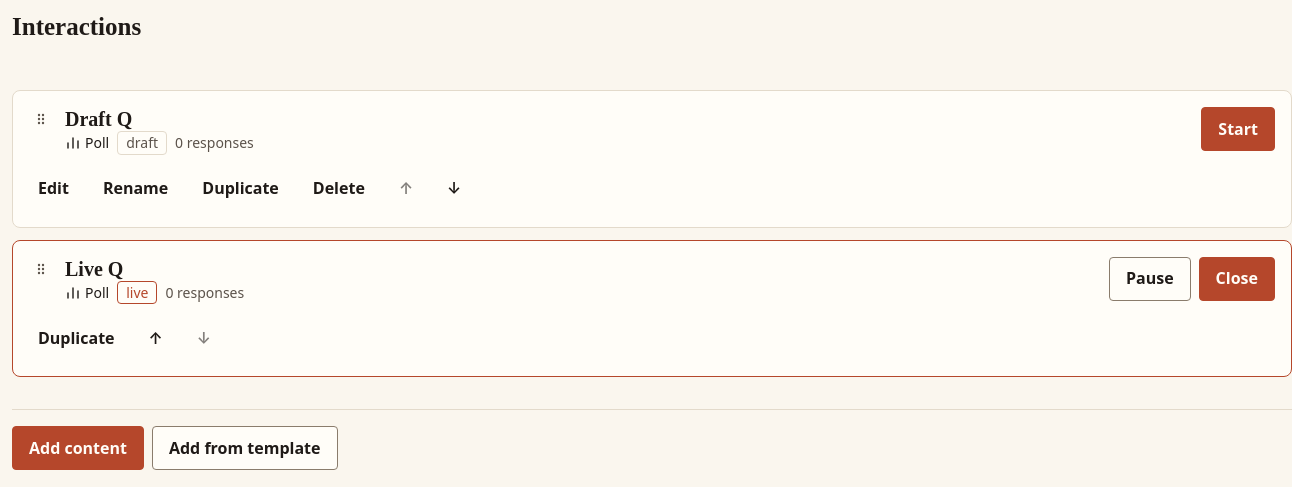
PollManager › starting a draft pauses the live one; paused can resume or close, live can pause
This screenshot has width=1292, height=487.
Click the button "Start" at point(1238, 129), box [1201,107,1275,151]
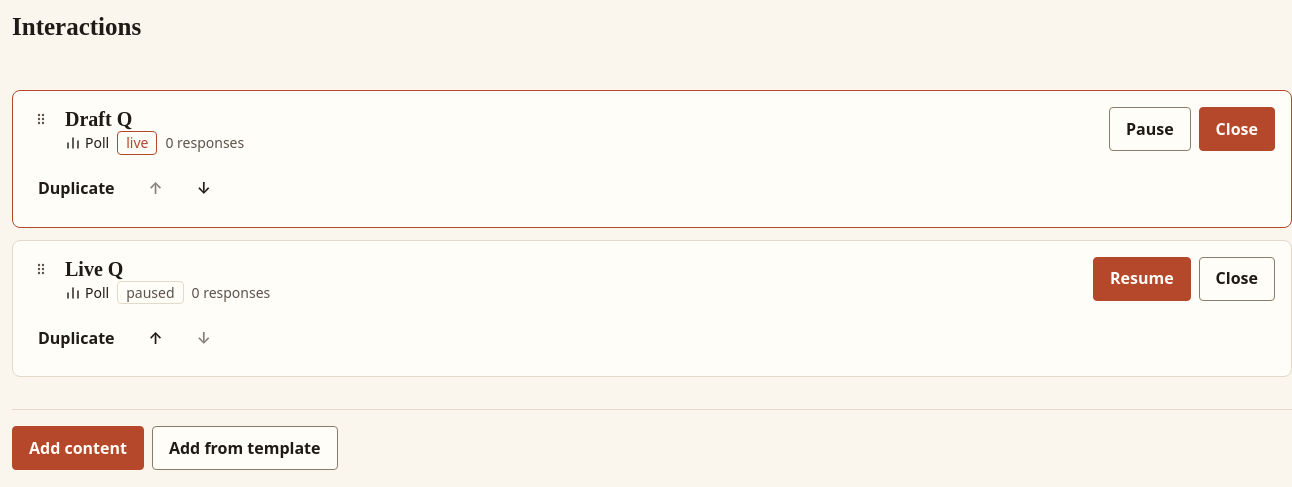
Check: the elements with test id "state" read "live", "paused", in this order, box [126,133,148,152]; [126,283,174,302]
Check: the button "Resume" is shown, box [1093,257,1191,301]
Click the button "Pause" at point(1150, 129), box [1109,107,1191,151]
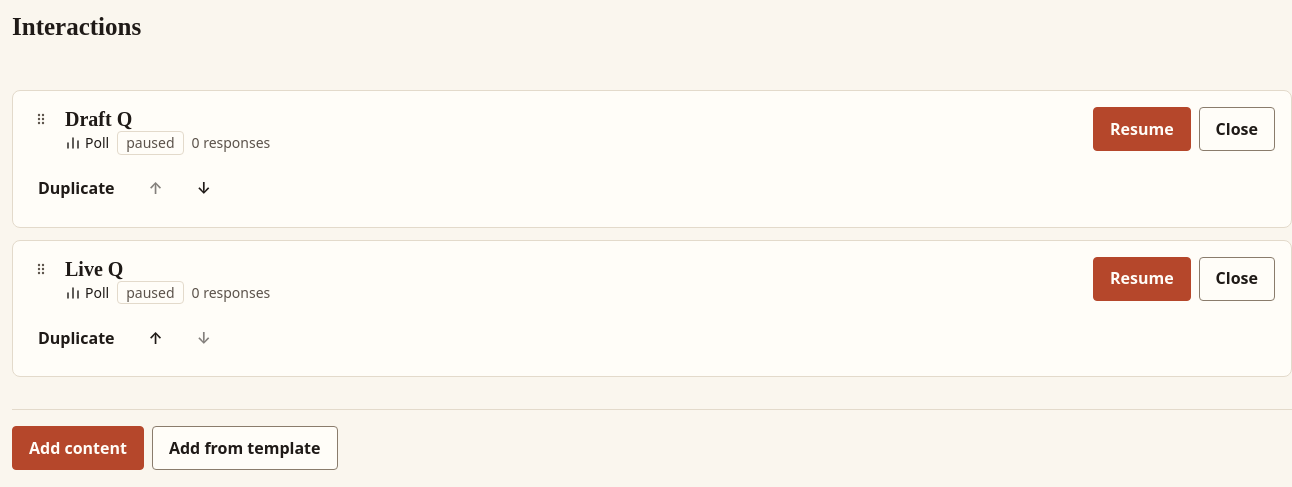
Check: the elements with test id "state" read "paused", "paused", in this order, box [126,133,174,152]; [126,283,174,302]
Click the button "Close" in the row of "Draft Q" at point(1237, 129), box [1199,107,1275,151]
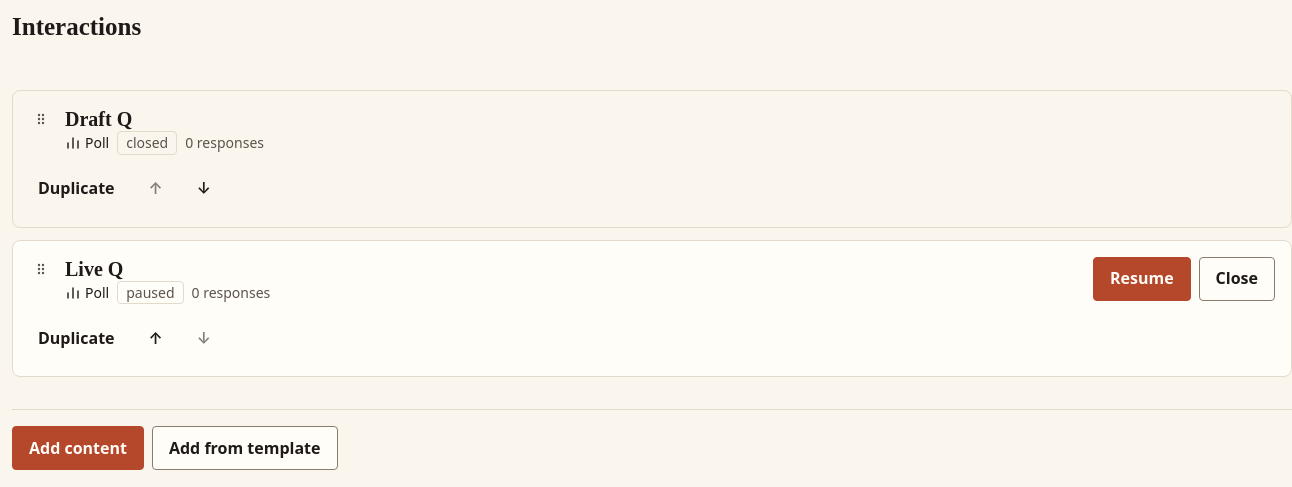
Check: the button "Start" is not shown
Check: the elements with test id "state" read "closed", "paused", in this order, box [126,133,168,152]; [126,283,174,302]
